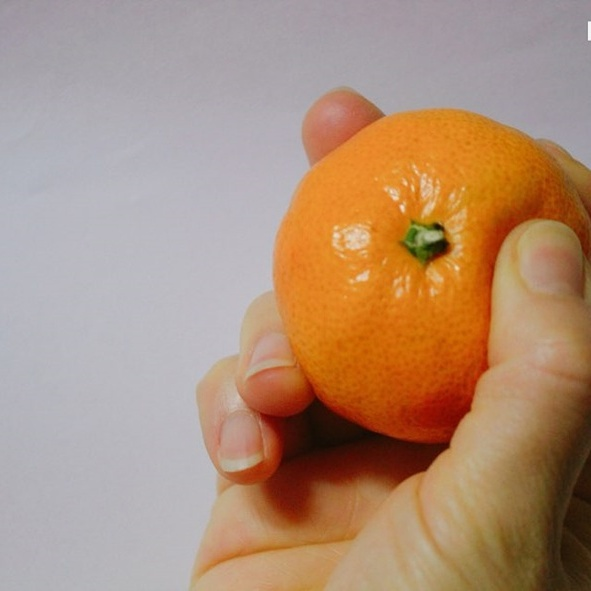mandarin: (271, 110, 591, 444)
